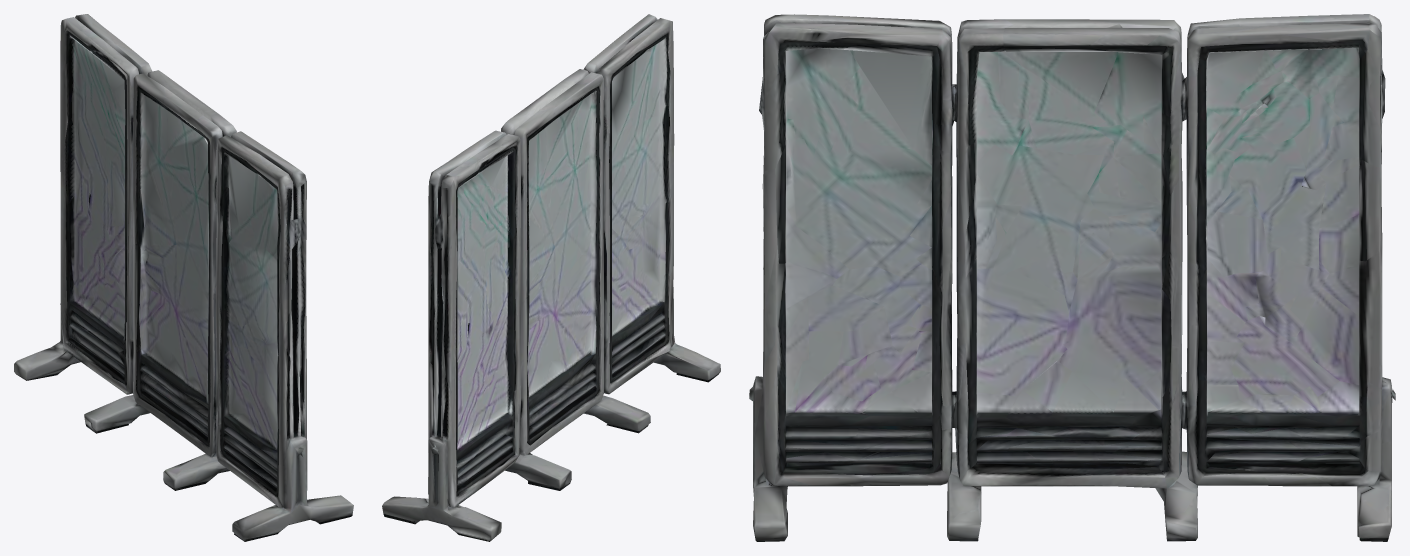
File: au_furn_divider_cyber.glb
3 views of the same model, side by side, from view 1: azimuth 30°, elevation 25°; view 2: azimuth 150°, elevation 25°; view 3: azimuth 270°, elevation 25° (orthographic). The views are drawn at different scales.
Parts seen in each view (by area): view 1: tripo_node_57b5b905-d619-4c84-9cf0-2c576d7c5db5; view 2: tripo_node_57b5b905-d619-4c84-9cf0-2c576d7c5db5; view 3: tripo_node_57b5b905-d619-4c84-9cf0-2c576d7c5db5.
Part boxes in pixels (box(x1,y1,x2,y2)): tripo_node_57b5b905-d619-4c84-9cf0-2c576d7c5db5: box(14, 14, 353, 541); tripo_node_57b5b905-d619-4c84-9cf0-2c576d7c5db5: box(382, 14, 720, 541); tripo_node_57b5b905-d619-4c84-9cf0-2c576d7c5db5: box(749, 14, 1395, 541).
Size of the model in its own units: 0.2677 by 0.8133 by 0.981.
Materials: 1 (1 with a texture image).
